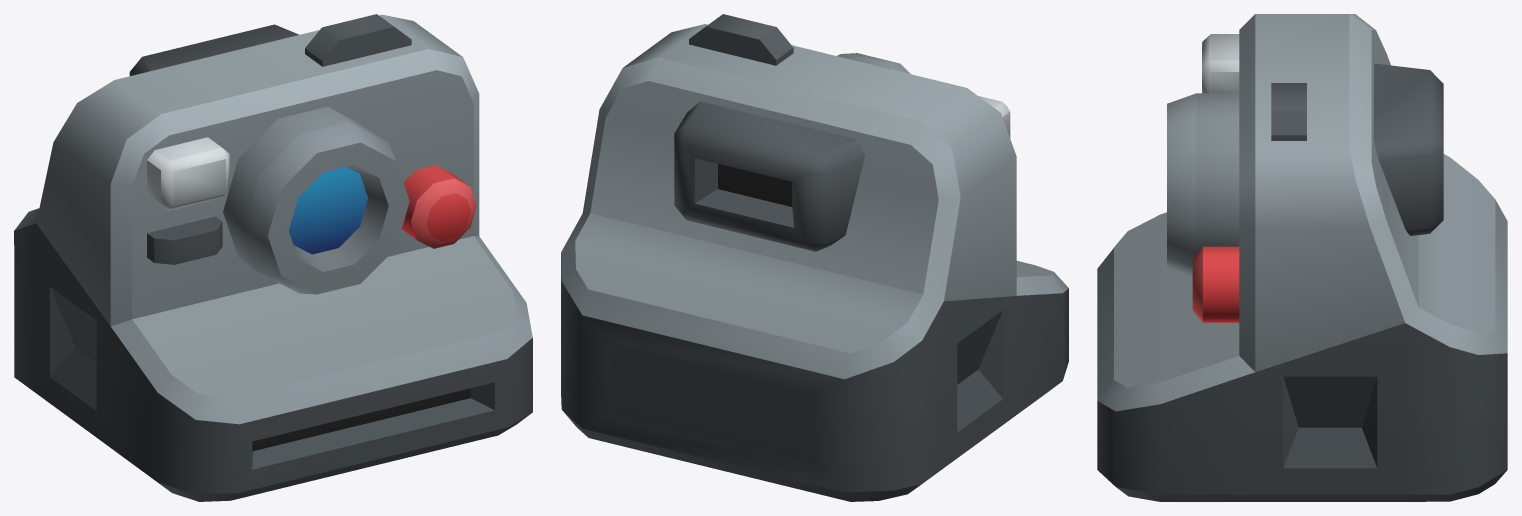
The model's file is instantcamera.glb.
3 views of the same model, side by side, from view 1: azimuth 30°, elevation 25°; view 2: azimuth 150°, elevation 25°; view 3: azimuth 270°, elevation 25° (orthographic). The views are drawn at different scales.
Parts seen in each view (by area): view 1: instantcamera; view 2: instantcamera; view 3: instantcamera.
Boxes of the visible parts, box(x1,y1,x2,y2) form: instantcamera: box(14, 14, 532, 501); instantcamera: box(561, 14, 1068, 501); instantcamera: box(1097, 14, 1507, 501).
Bounding box in the file's own units: 0.6008 × 0.5576 × 0.5744.
1 material, 1 textured.
